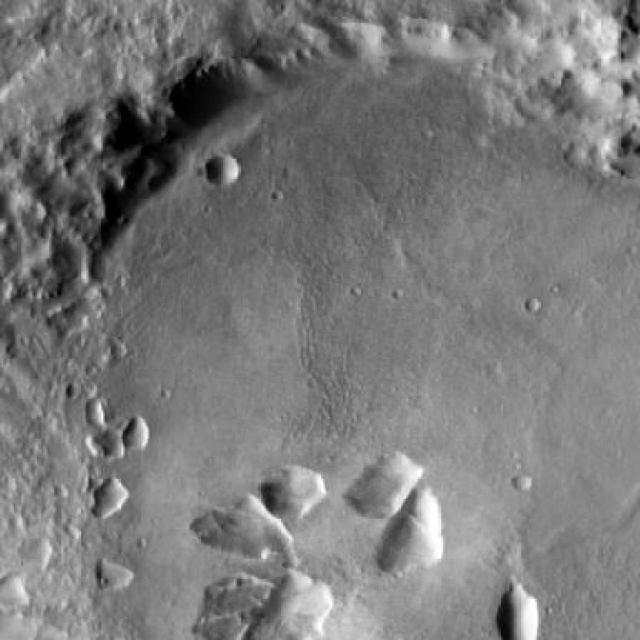crater: (6, 6, 640, 640), (208, 153, 244, 185), (123, 419, 149, 443), (569, 137, 593, 160), (514, 480, 534, 498)
